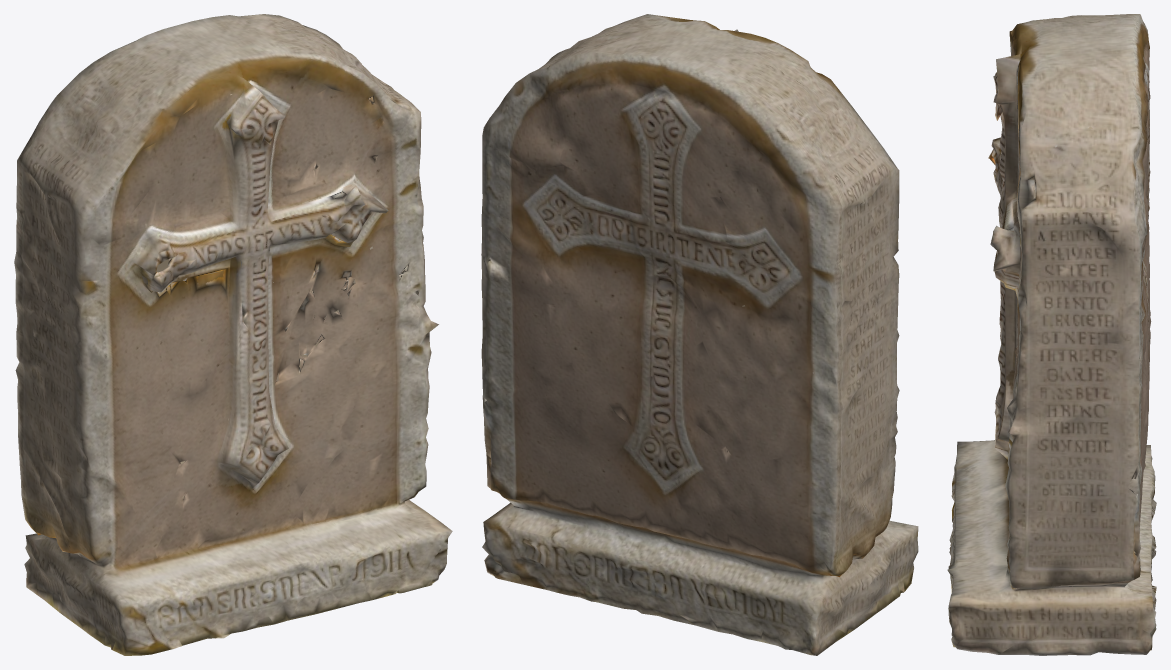
The model's file is gravestone.glb.
3 views of the same model, side by side, from view 1: azimuth 30°, elevation 25°; view 2: azimuth 150°, elevation 25°; view 3: azimuth 270°, elevation 25° (orthographic). The views are drawn at different scales.
Visible parts, largest first — view 1: geometry_0; view 2: geometry_0; view 3: geometry_0.
Boxes of the visible parts, x1,y1,x2,y2 form: geometry_0: [14, 14, 452, 655]; geometry_0: [481, 14, 918, 655]; geometry_0: [947, 14, 1156, 655].
Size of the model in its own units: 1.54 by 2.2 by 0.7823.
Materials: 1 (1 with a texture image).
